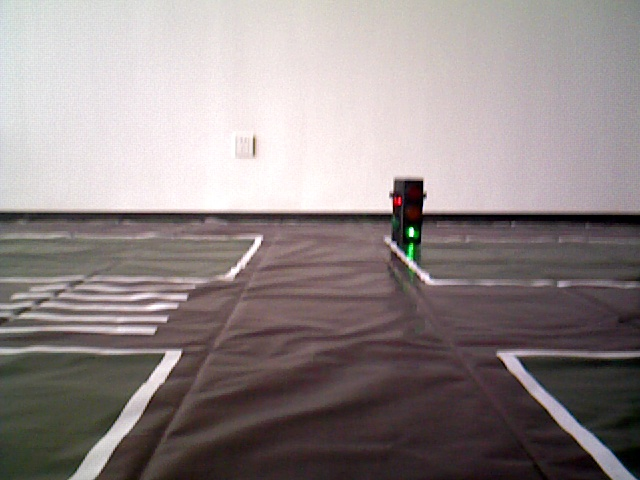green: (392, 178, 420, 240)
